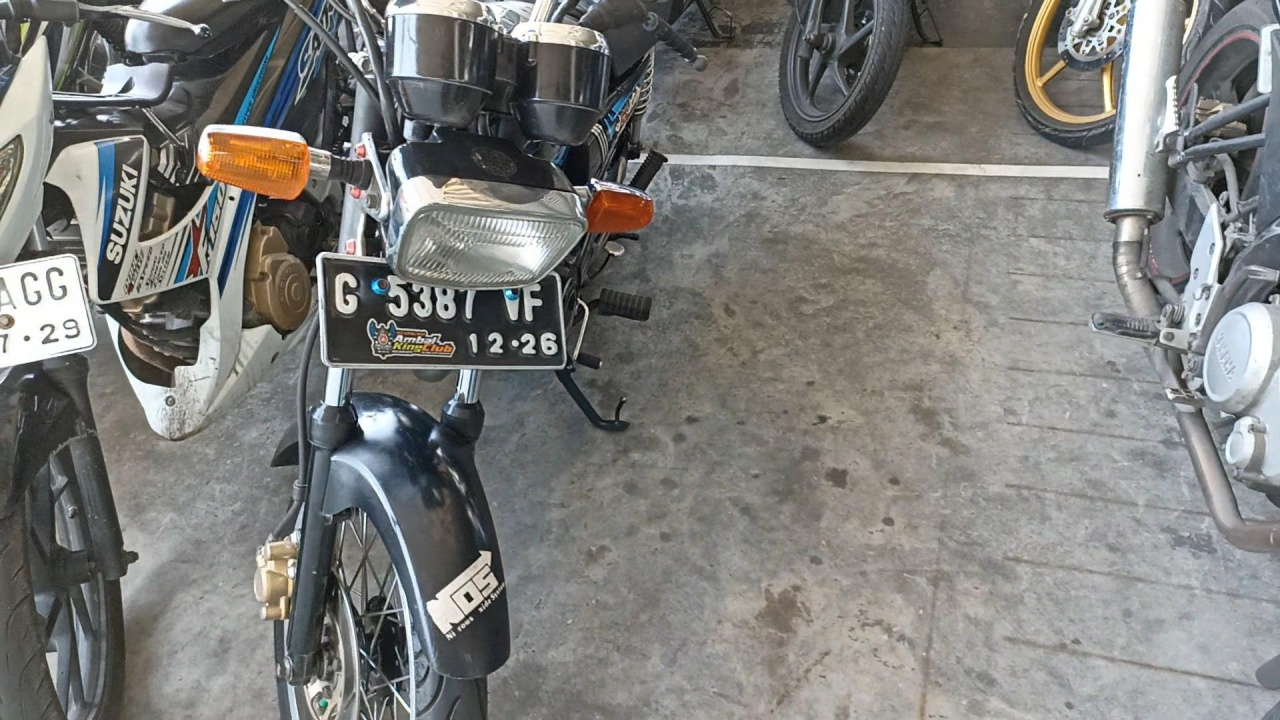plate: (320, 253, 567, 369)
